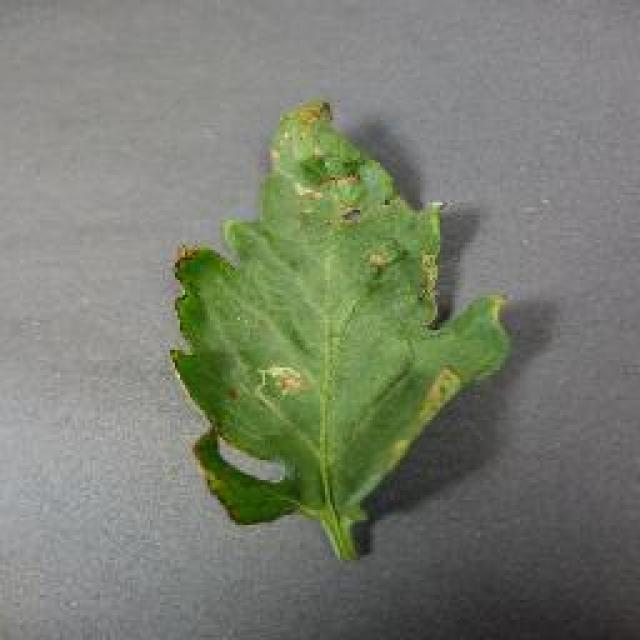Tomato___Bacterial_spot: (159, 98, 519, 567)
